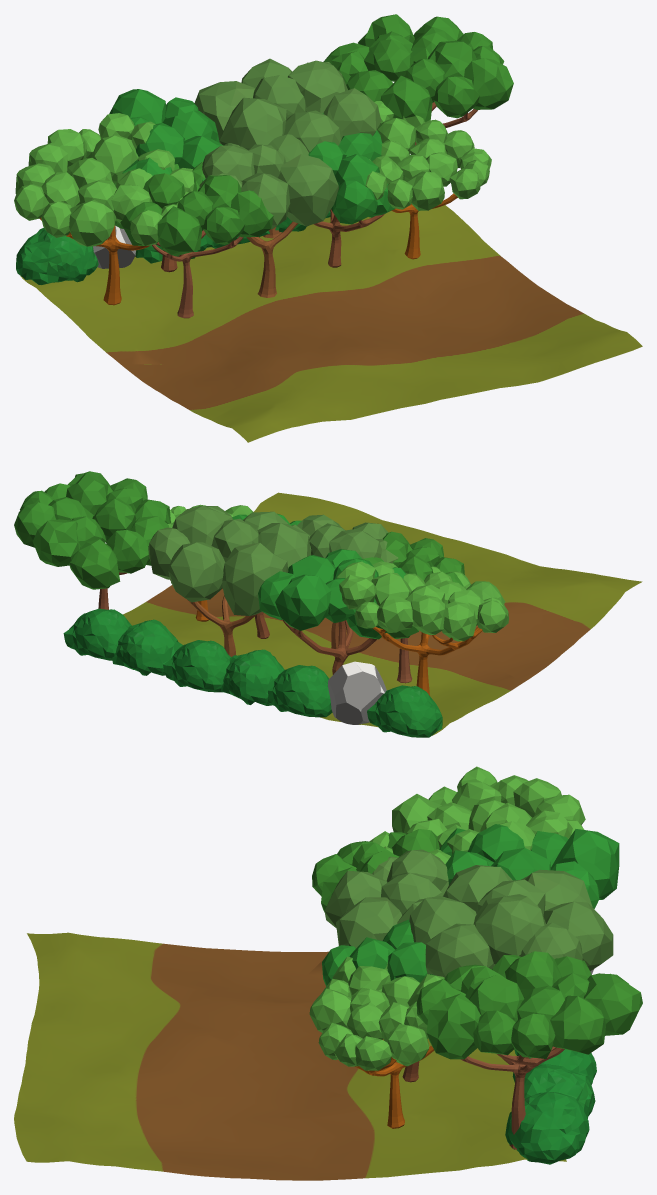
Rendered from bloc_sol.fbx.
The picture shows the model from 3 angles, top to bottom: view 1: azimuth 30°, elevation 25°; view 2: azimuth 150°, elevation 25°; view 3: azimuth 270°, elevation 25°; orthographic projection. The views are drawn at different scales.
Visible parts, largest first — view 1: sol, Icosphere.005, Icosphere.003, Icosphere, Icosphere.008, Icosphere.004, Icosphere.001, Icosphere.009, Icosphere.002, buisson_01, arbre1_02, arbre3_02 (+4 smaller); view 2: sol, Icosphere.003, Icosphere, Icosphere.005, Icosphere.009, buisson_01, Icosphere.001, rocher_01, buisson_01.003, buisson_01.002, buisson_01.005, Icosphere.004 (+7 smaller); view 3: sol, Icosphere.003, Icosphere, Icosphere.005, Icosphere.008, Icosphere.009, Icosphere.001, buisson_01.001, Icosphere.002, Icosphere.004, buisson_01.005, arbre1_01 (+2 smaller).
Boxes of the visible parts, box(x1,y1,x2,y2) form: sol: box(20, 205, 642, 442); Icosphere.005: box(14, 113, 194, 246); Icosphere.003: box(323, 14, 513, 121); Icosphere: box(194, 58, 381, 152); Icosphere.008: box(365, 101, 491, 210); Icosphere.004: box(114, 162, 273, 256); Icosphere.001: box(199, 134, 338, 229); Icosphere.009: box(109, 89, 223, 181); Icosphere.002: box(308, 113, 395, 224); buisson_01: box(16, 228, 98, 284); arbre1_02: box(152, 230, 243, 318); arbre3_02: box(39, 217, 150, 305); sol: box(123, 492, 642, 735); Icosphere.003: box(14, 471, 170, 589); Icosphere: box(148, 505, 310, 615); Icosphere.005: box(336, 561, 508, 641); Icosphere.009: box(258, 549, 405, 639); buisson_01: box(367, 685, 442, 737); Icosphere.001: box(291, 514, 398, 563); rocher_01: box(328, 661, 386, 724); buisson_01.003: box(267, 665, 332, 717); buisson_01.002: box(163, 640, 230, 692); buisson_01.005: box(112, 619, 182, 675); Icosphere.004: box(362, 531, 464, 638); sol: box(14, 932, 566, 1180); Icosphere.003: box(416, 951, 642, 1059); Icosphere: box(409, 865, 613, 977); Icosphere.005: box(369, 766, 585, 864); Icosphere.008: box(309, 956, 444, 1070); Icosphere.009: box(439, 824, 619, 909); Icosphere.001: box(324, 849, 448, 948); buisson_01.001: box(505, 1091, 589, 1164); Icosphere.002: box(322, 919, 436, 986); Icosphere.004: box(312, 829, 439, 911); buisson_01.005: box(512, 1064, 595, 1118); arbre1_01: box(460, 1046, 564, 1149).
Size of the model in its own units: 6306 by 2187 by 5819.
11 materials, 11 textured.
